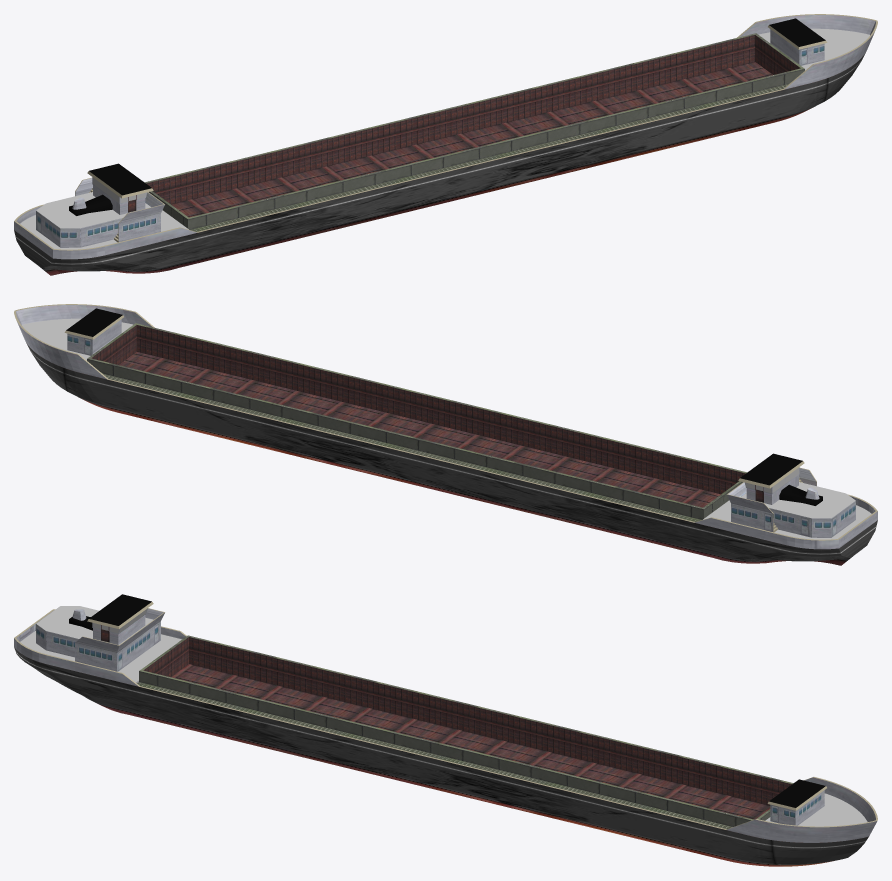
The model's file is barzha.dae.
3 views of the same model, one above another, from view 1: azimuth 30°, elevation 25°; view 2: azimuth 150°, elevation 25°; view 3: azimuth 330°, elevation 25° (orthographic).
Parts seen in each view (by area): view 1: barzha; view 2: barzha; view 3: barzha.
Part boxes in pixels (left/top/right/bottom): barzha: left=14, top=14, right=877, bottom=275; barzha: left=14, top=304, right=877, bottom=565; barzha: left=14, top=594, right=877, bottom=866.
Size of the model in its own units: 168 by 20.13 by 14.98.
